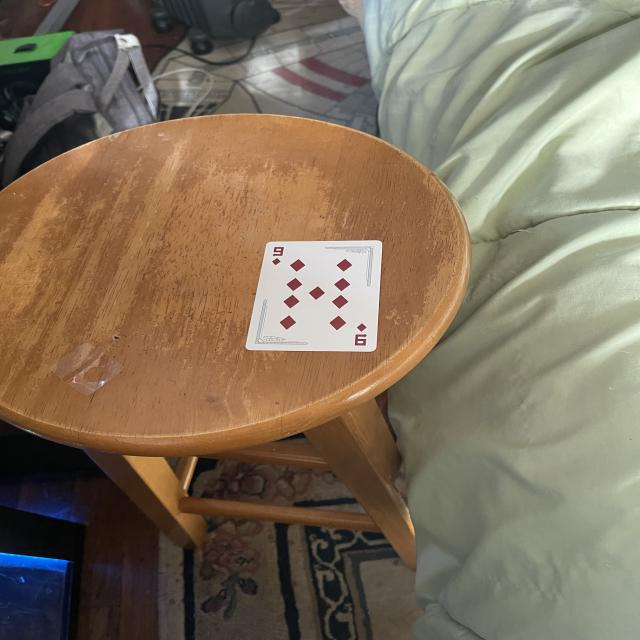9 of diamonds: (246, 242, 380, 351)
